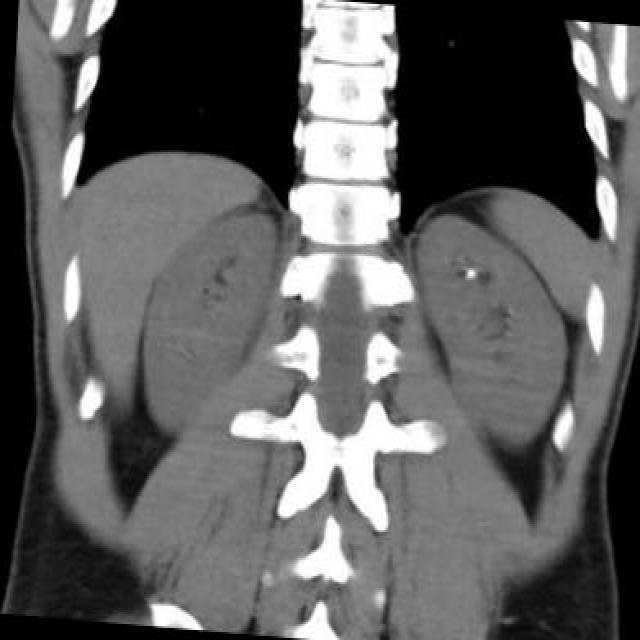Tas_Var: (466, 269, 474, 277)
